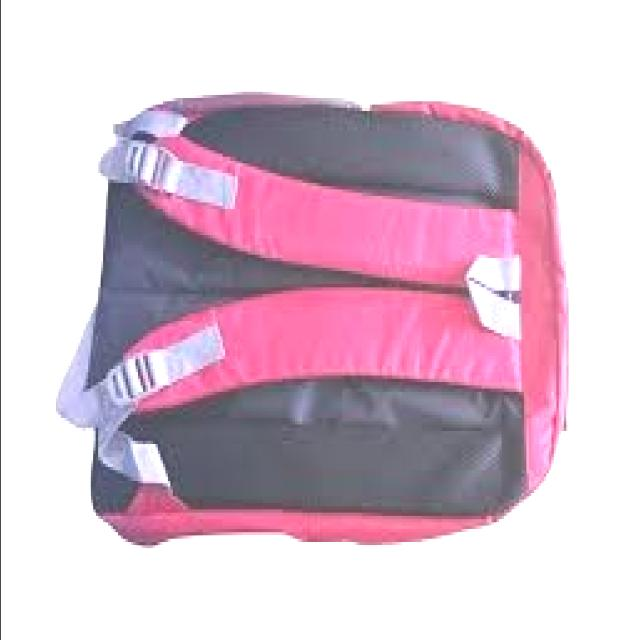backpack: (56, 90, 572, 550)
